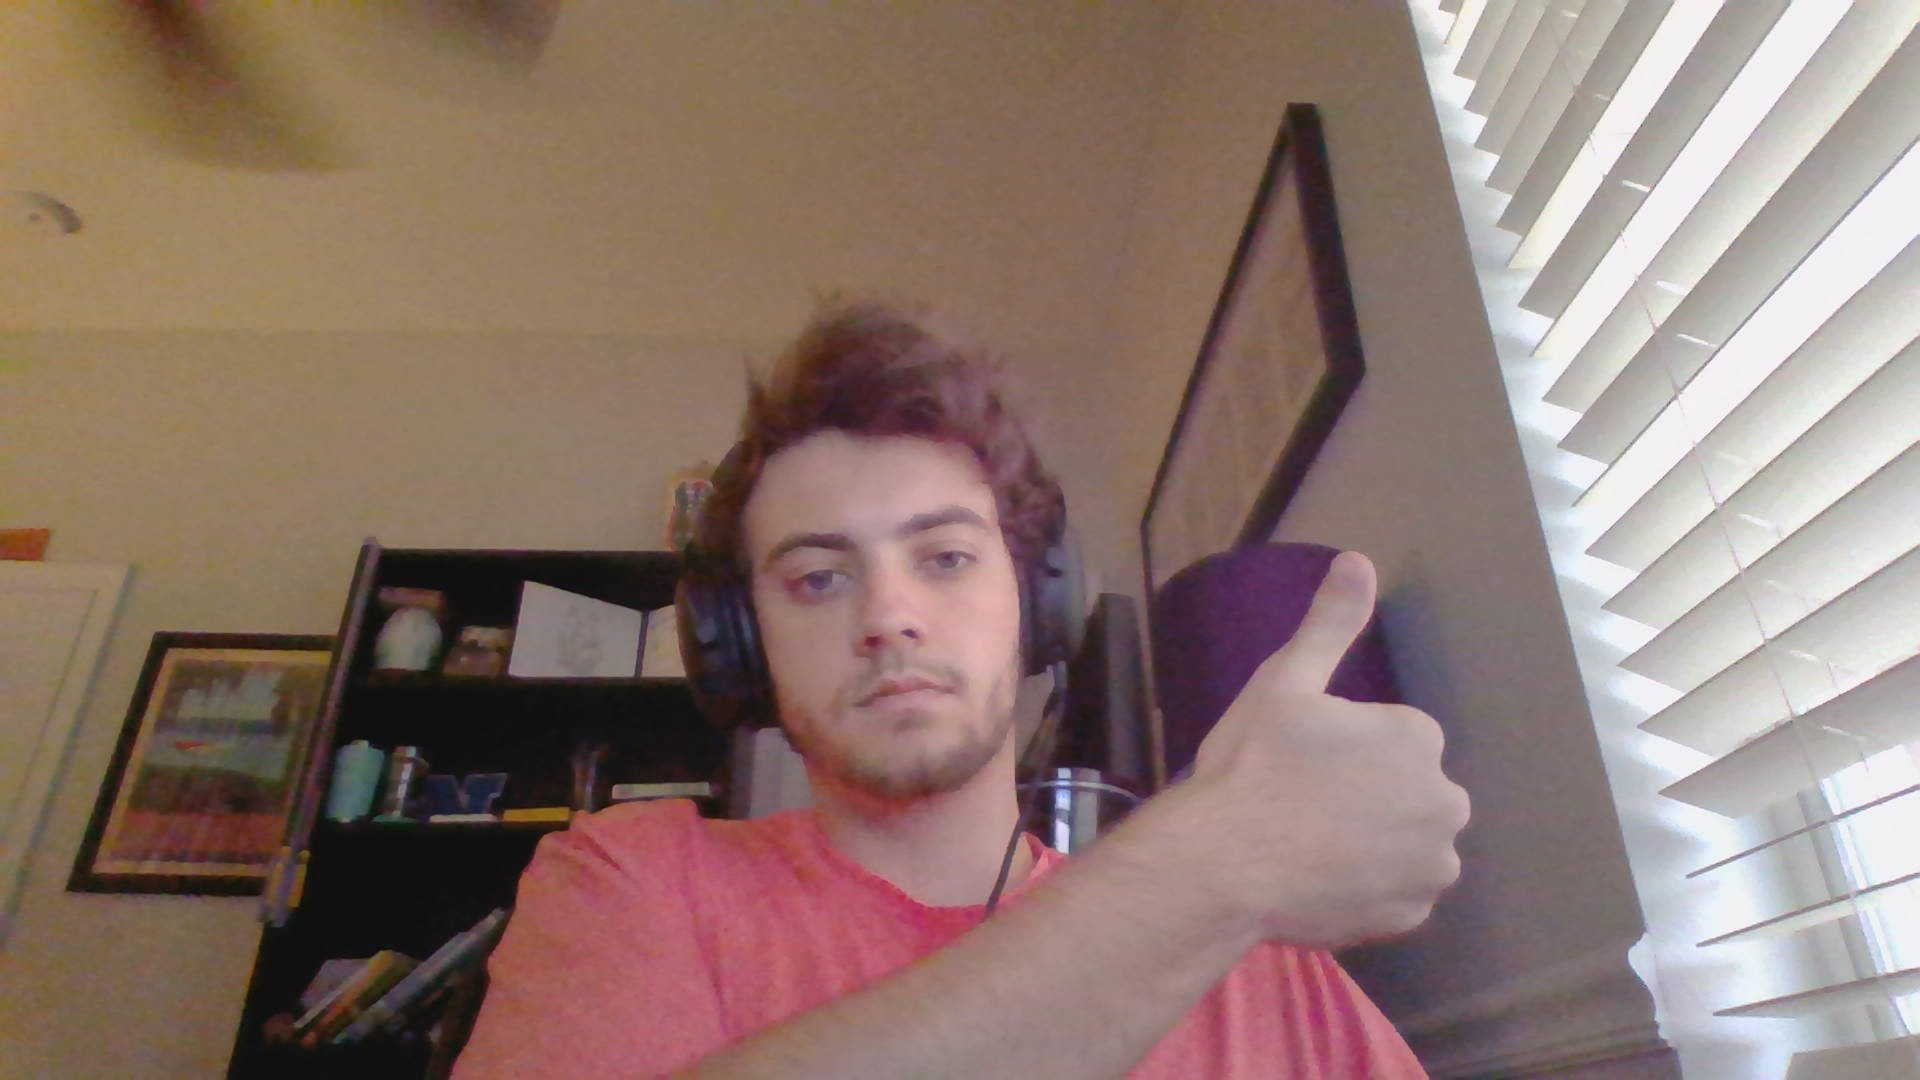Right Thumb Up: (1145, 527, 1503, 963)
